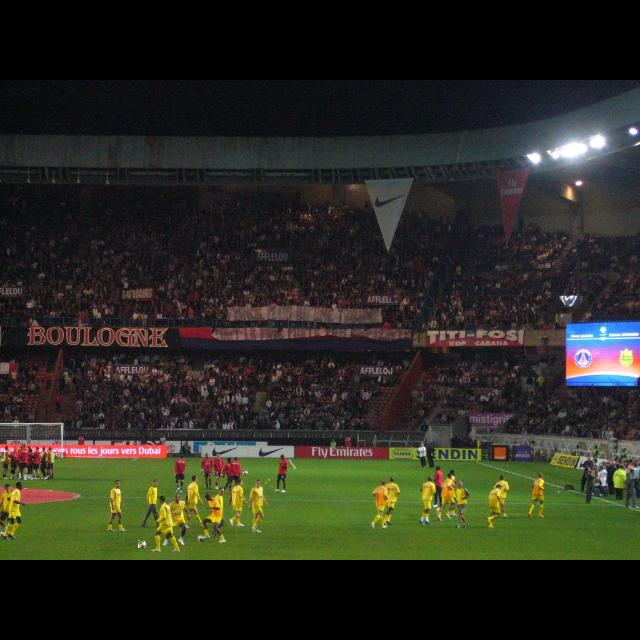Football: (139, 540, 145, 548)
